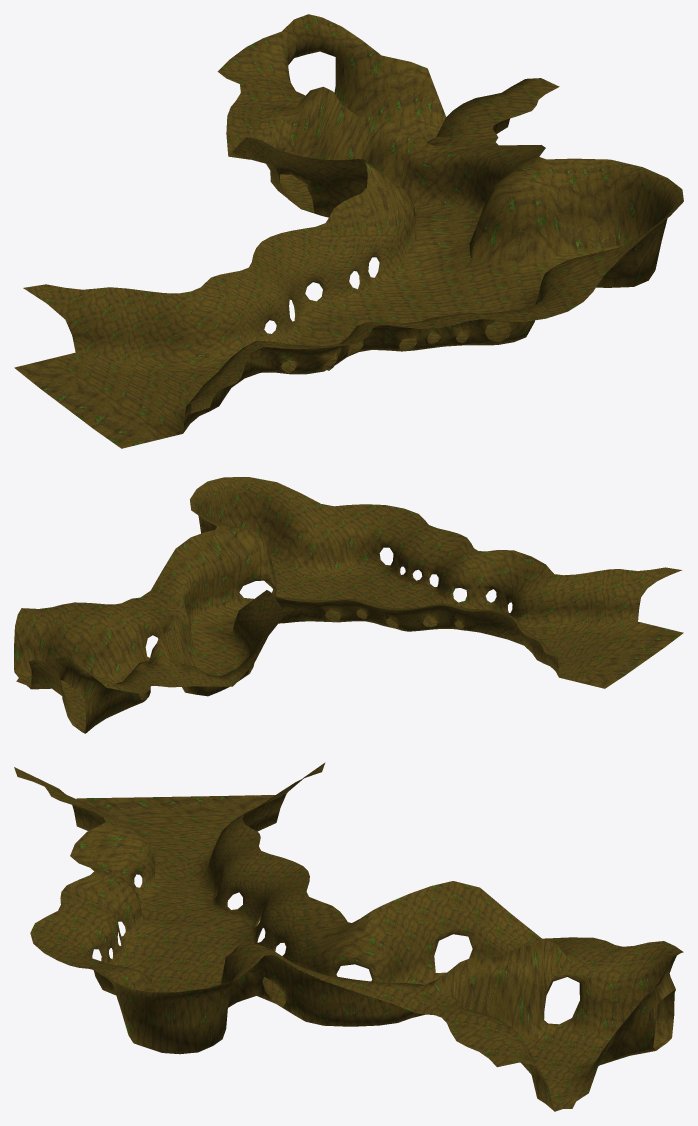
Rendered from MIRKWOOD_AREA4.fbx.
3 renders of one model, top to bottom at view 1: azimuth 30°, elevation 25°; view 2: azimuth 150°, elevation 25°; view 3: azimuth 270°, elevation 25°, orthographic. The views are drawn at different scales.
Parts seen in each view (by area): view 1: MIRKWOOD_AREA4; view 2: MIRKWOOD_AREA4; view 3: MIRKWOOD_AREA4.
Boxes of the visible parts, box(x1,y1,x2,y2) form: MIRKWOOD_AREA4: box(14, 14, 683, 448); MIRKWOOD_AREA4: box(14, 477, 683, 733); MIRKWOOD_AREA4: box(14, 762, 683, 1111).
Size of the model in its own units: 781618 by 126718 by 729914.
Materials: 1 (1 with a texture image).
